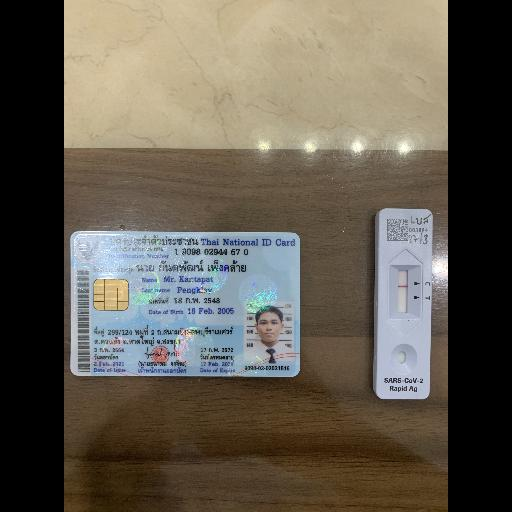Neg: (377, 207, 431, 397)
